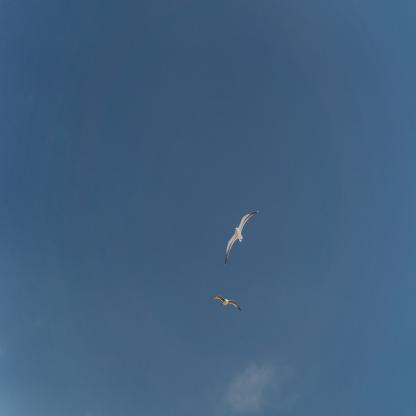bird: (224, 211, 258, 264), (210, 294, 241, 312)
